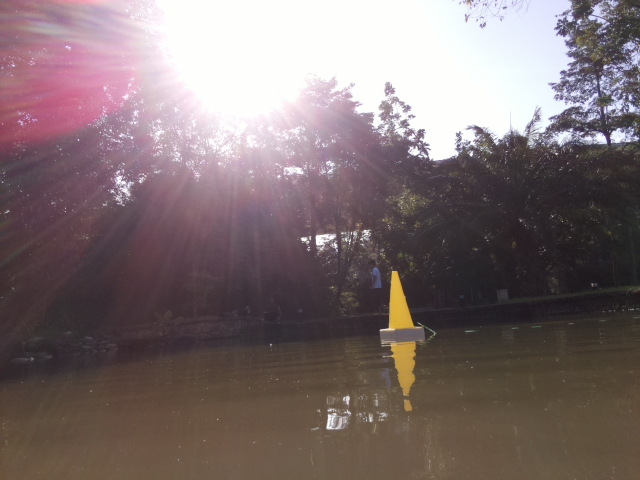checkpoint: (377, 269, 429, 344)
